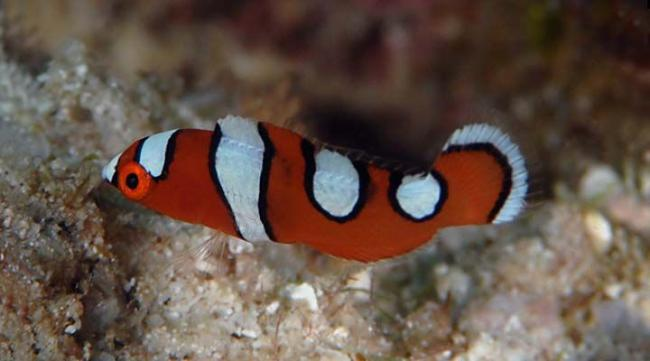fish: (101, 113, 529, 264)
